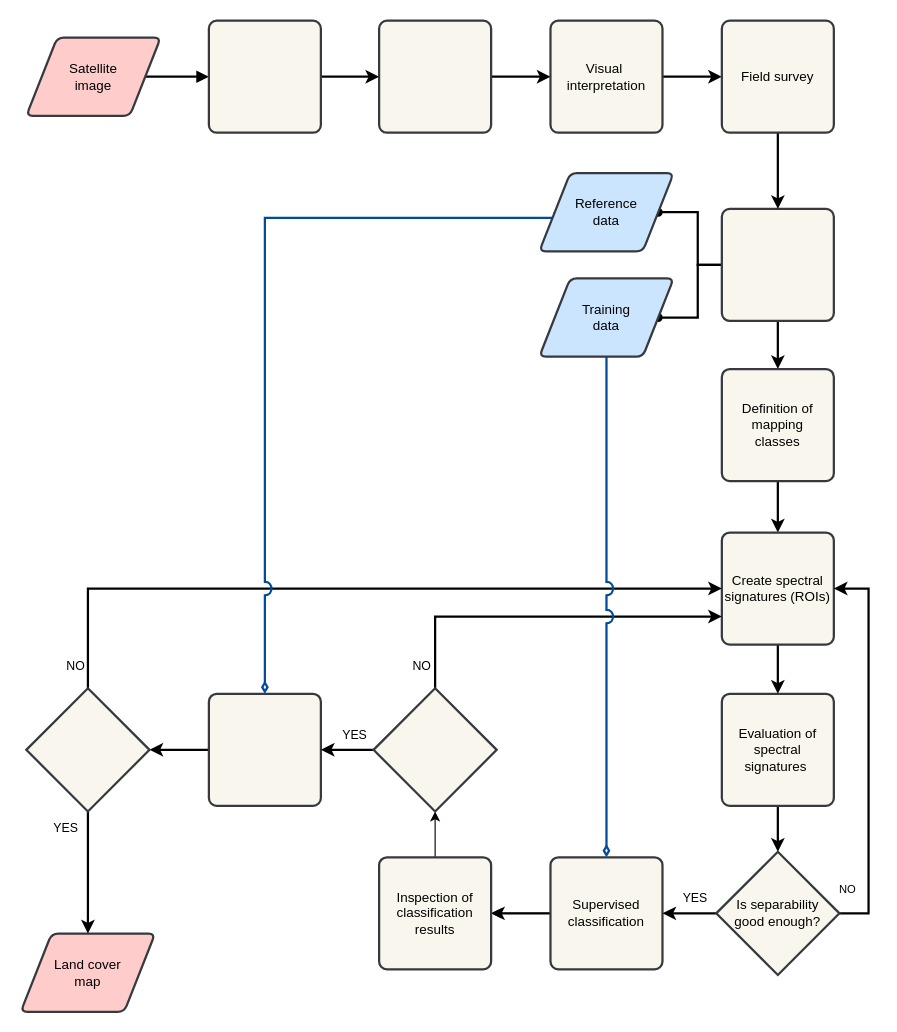
Image size: 897x1032. Some labels were removed from this diagram. Each missing label, with the box of its shape:
Accuracy assessment: (207, 692, 321, 806)
Are results good enough?: (372, 687, 497, 812)
Definition of interpretation legend: (377, 19, 492, 133)
Inspection of image characteristics: (207, 19, 321, 133)
Is the accuracy acceptable?: (25, 687, 150, 812)
Organization of field data: (720, 207, 834, 321)
